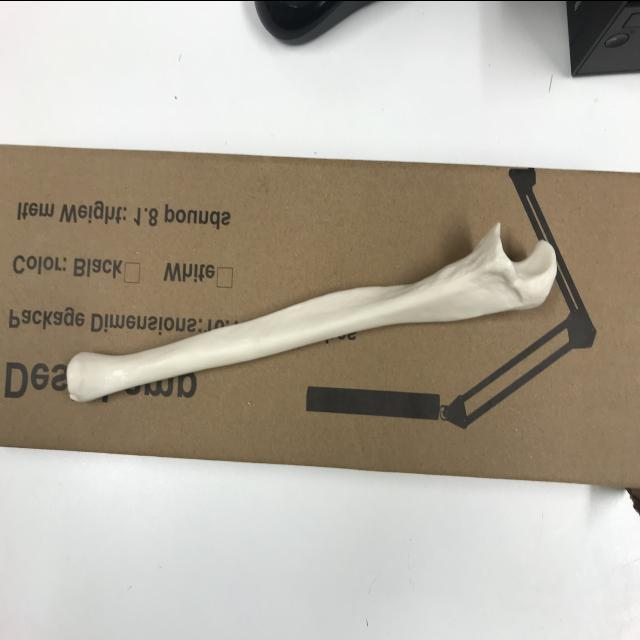bone: (61, 221, 559, 420)
